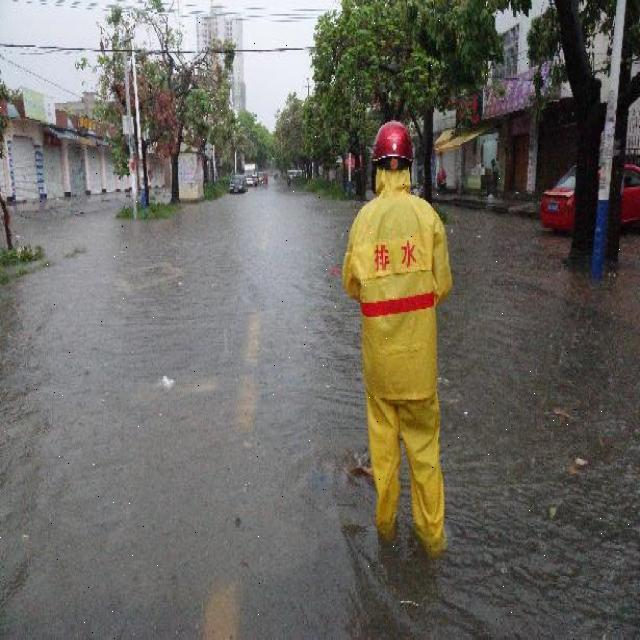rescuer: (341, 111, 466, 563)
